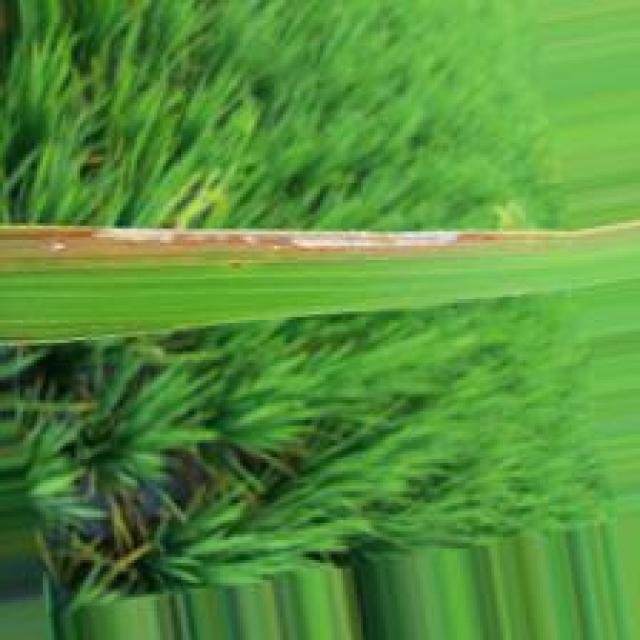Bacterial_Leaf_Blight: (0, 225, 531, 270)
